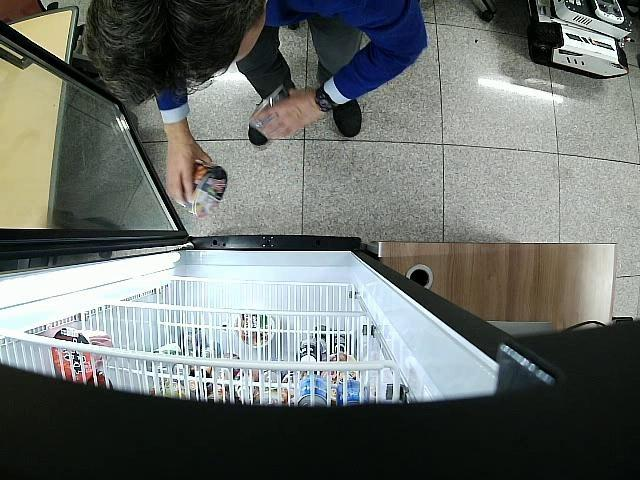07_buldak_L: (187, 163, 228, 217), (248, 87, 288, 128)
